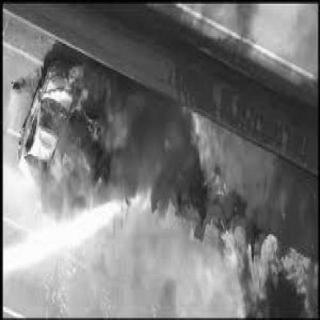Fire: (26, 80, 120, 201), (192, 242, 318, 316)
